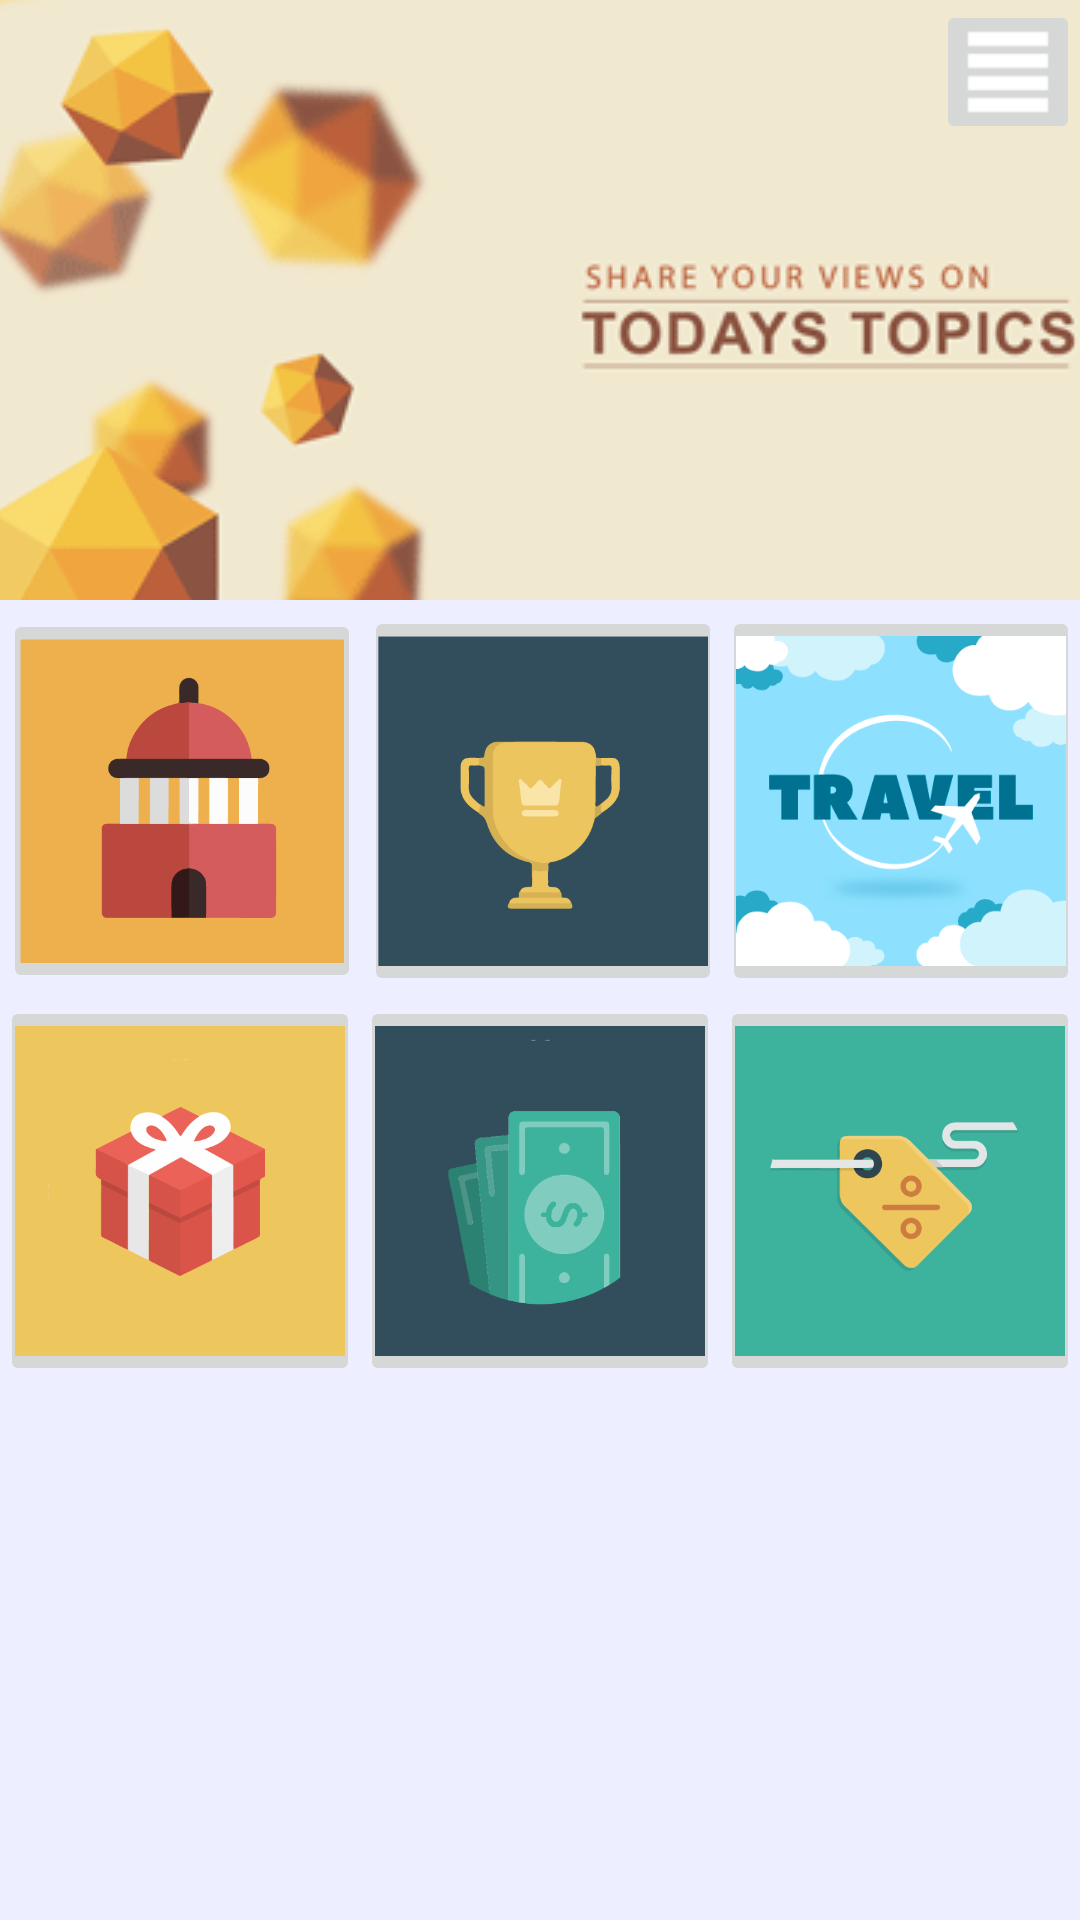

Point at icon controls on the screen. Image size 1080w x 1920h, points as point (x, y).
drawer: point (1008, 72)
gift: point (180, 1191)
pol: point (182, 801)
sports: point (543, 801)
